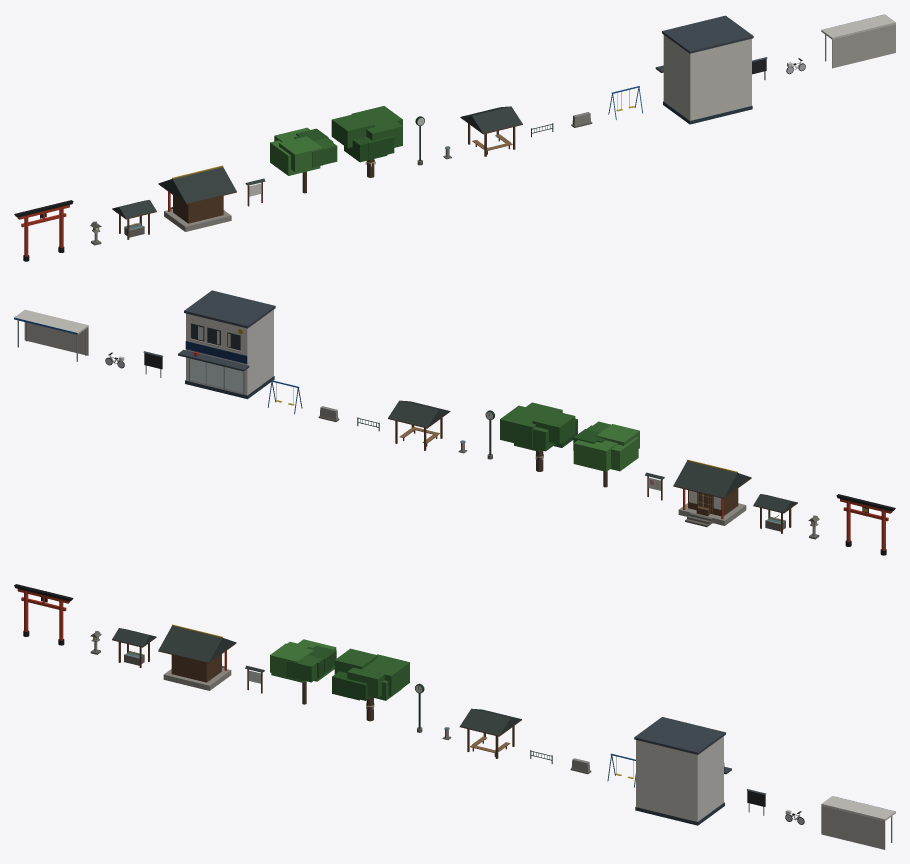
Rendered from places.glb.
3 renders of one model, top to bottom at view 1: azimuth 30°, elevation 25°; view 2: azimuth 150°, elevation 25°; view 3: azimuth 330°, elevation 25°, orthographic.
Parts seen in each view (by area): view 1: places_koban_body, places_hall_body, places_sacredtree_body, places_canopy_body, places_tree_body, places_shelter_body, places_torii_body, places_basin_body; view 2: places_koban_body, places_hall_body, places_sacredtree_body, places_tree_body, places_canopy_body, places_shelter_body, places_torii_body, places_basin_body; view 3: places_koban_body, places_hall_body, places_sacredtree_body, places_canopy_body, places_tree_body, places_shelter_body, places_torii_body, places_basin_body.
Part boxes in pixels (x1,y1,x2,y2): places_koban_body: (655, 15, 753, 124); places_hall_body: (158, 165, 236, 231); places_sacredtree_body: (331, 106, 402, 177); places_canopy_body: (821, 14, 895, 68); places_tree_body: (270, 127, 337, 193); places_shelter_body: (460, 106, 522, 156); places_torii_body: (14, 200, 73, 261); places_basin_body: (112, 200, 156, 239); places_koban_body: (178, 290, 275, 399); places_hall_body: (673, 459, 751, 527); places_sacredtree_body: (500, 402, 577, 471); places_tree_body: (573, 421, 639, 487); places_canopy_body: (14, 309, 88, 361); places_shelter_body: (388, 400, 450, 450); places_torii_body: (836, 494, 895, 555); places_basin_body: (753, 494, 797, 533); places_koban_body: (634, 717, 731, 825); places_hall_body: (158, 624, 236, 690); places_sacredtree_body: (332, 648, 409, 721); places_canopy_body: (821, 796, 895, 849); places_tree_body: (270, 639, 336, 704); places_shelter_body: (459, 708, 521, 758); places_torii_body: (14, 584, 73, 645); places_basin_body: (112, 628, 156, 667).
Bounding box in the file's own units: 79.72 × 6.4 × 6.9.
